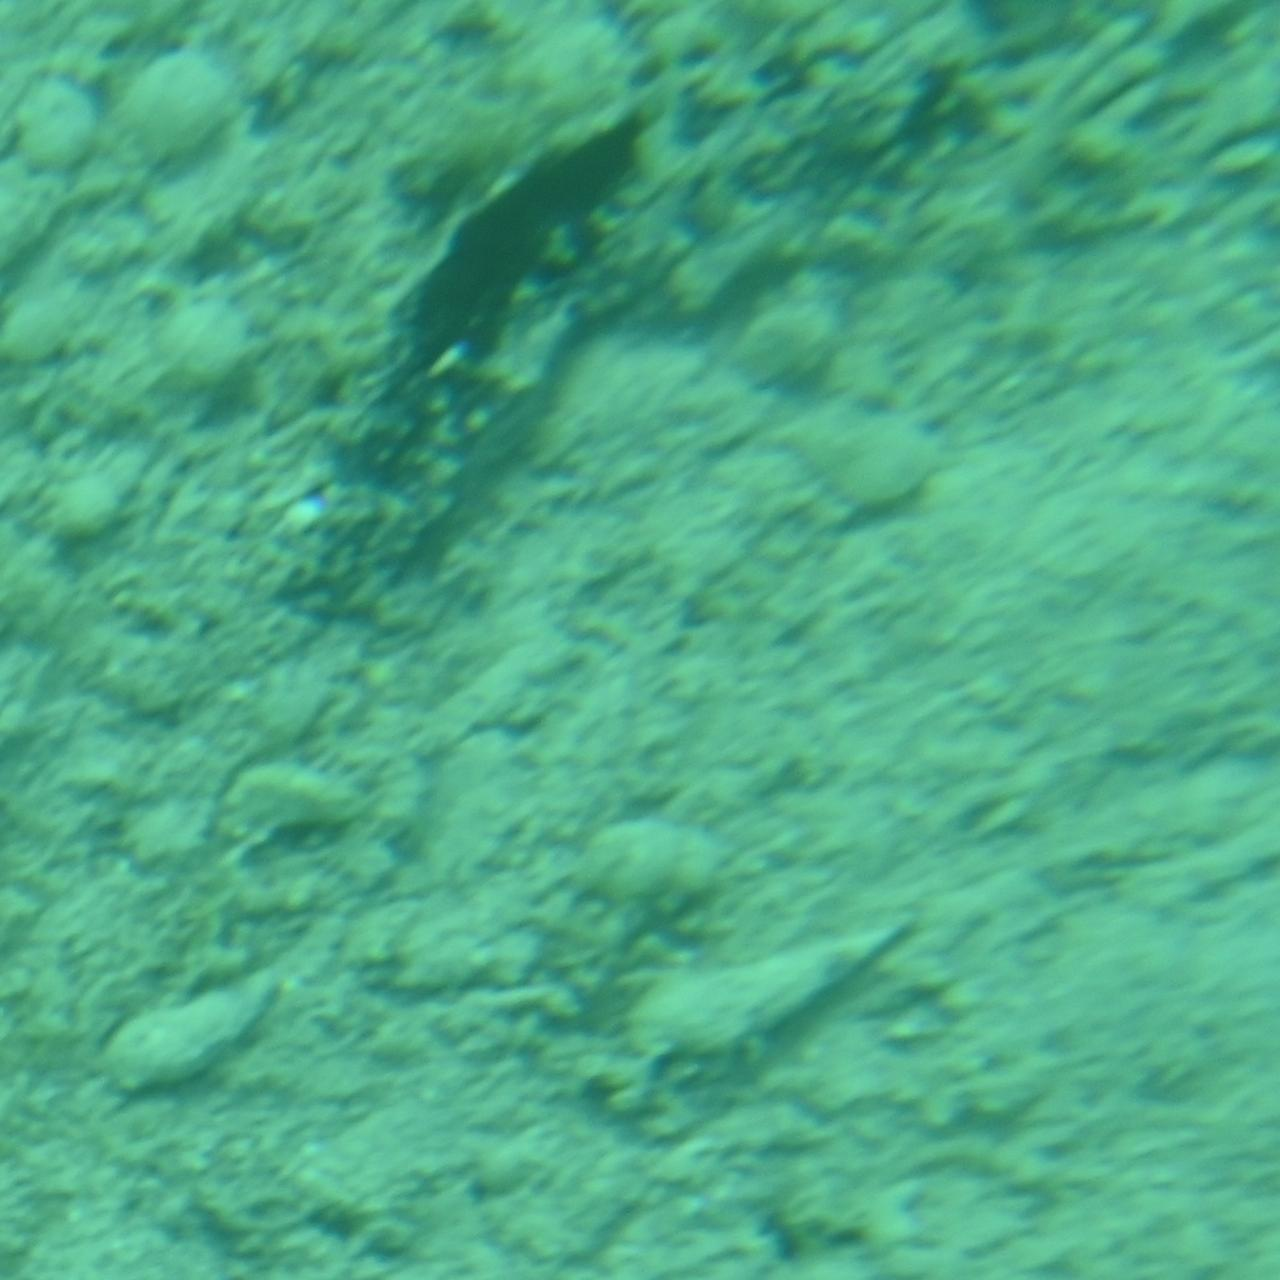Holothuria tubulosa: (284, 42, 996, 623)
